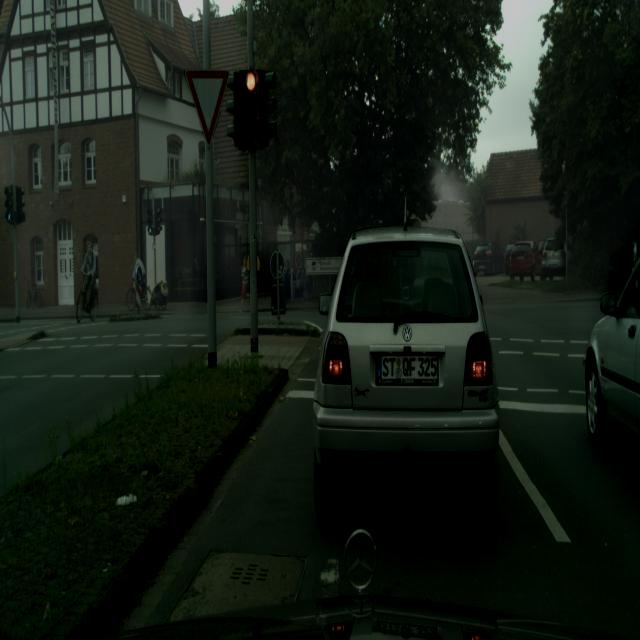car: (76, 271, 99, 323), (126, 274, 146, 311)
person: (80, 238, 98, 314), (132, 254, 145, 306), (240, 253, 250, 312)
truck: (312, 226, 500, 526), (584, 250, 640, 451), (508, 242, 537, 282), (540, 238, 566, 282), (473, 244, 493, 276), (503, 243, 517, 276)
